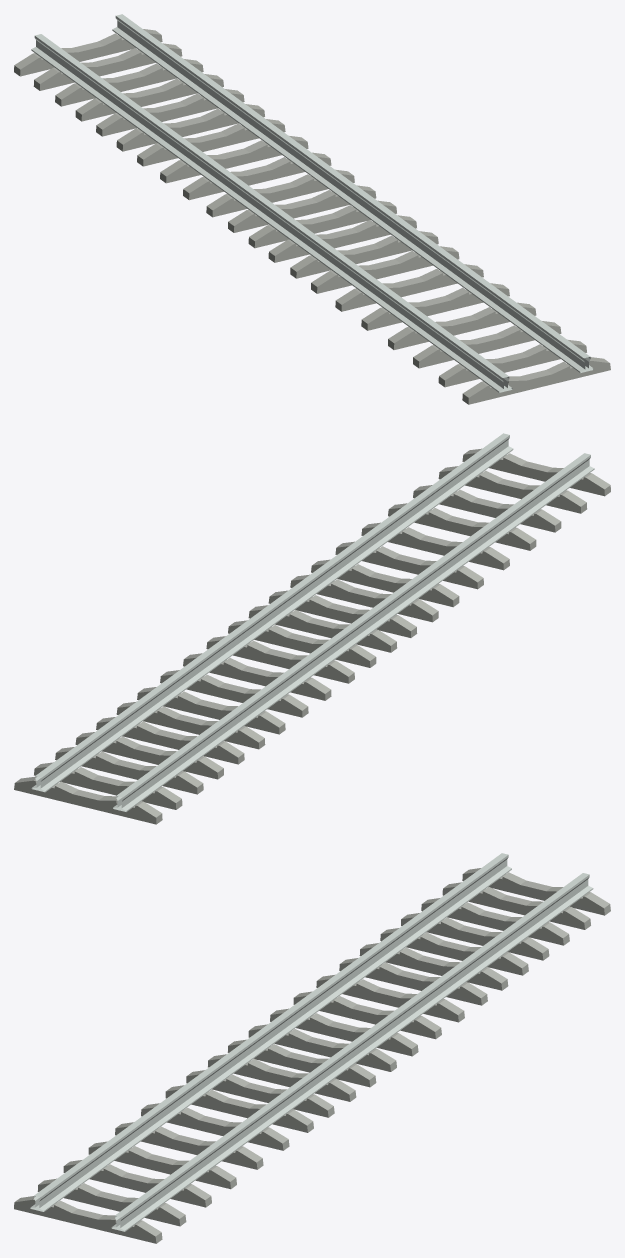
File: SM_Railway_01.fbx
3 renders of one model, top to bottom at view 1: azimuth 30°, elevation 25°; view 2: azimuth 150°, elevation 25°; view 3: azimuth 330°, elevation 25°, orthographic.
Parts seen in each view (by area): view 1: SM_Railway_01; view 2: SM_Railway_01; view 3: SM_Railway_01.
Part boxes in pixels (x1,y1,x2,y2): SM_Railway_01: [14, 14, 610, 404]; SM_Railway_01: [14, 433, 610, 824]; SM_Railway_01: [14, 853, 610, 1243].
Bounding box in the file's own units: 281 × 47.76 × 1600.
Materials: 1 (1 with a texture image).
